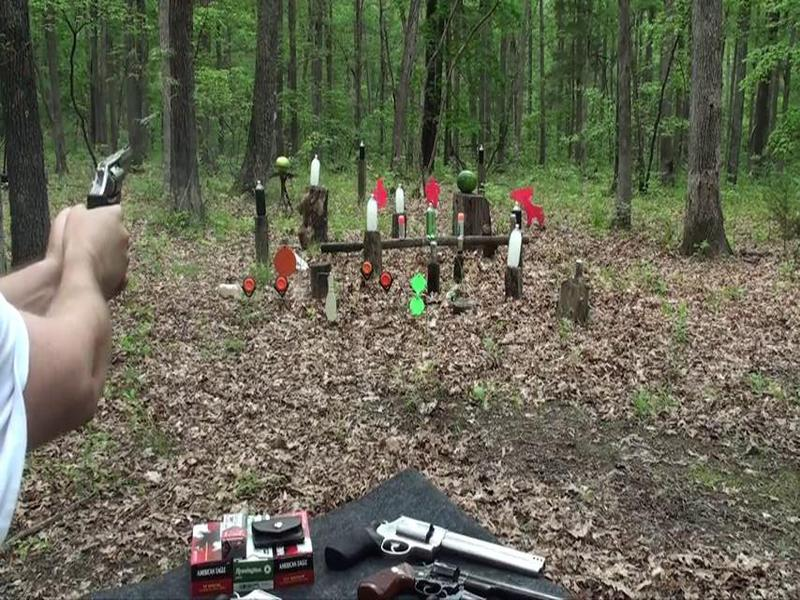Revolver: (81, 126, 147, 240)
